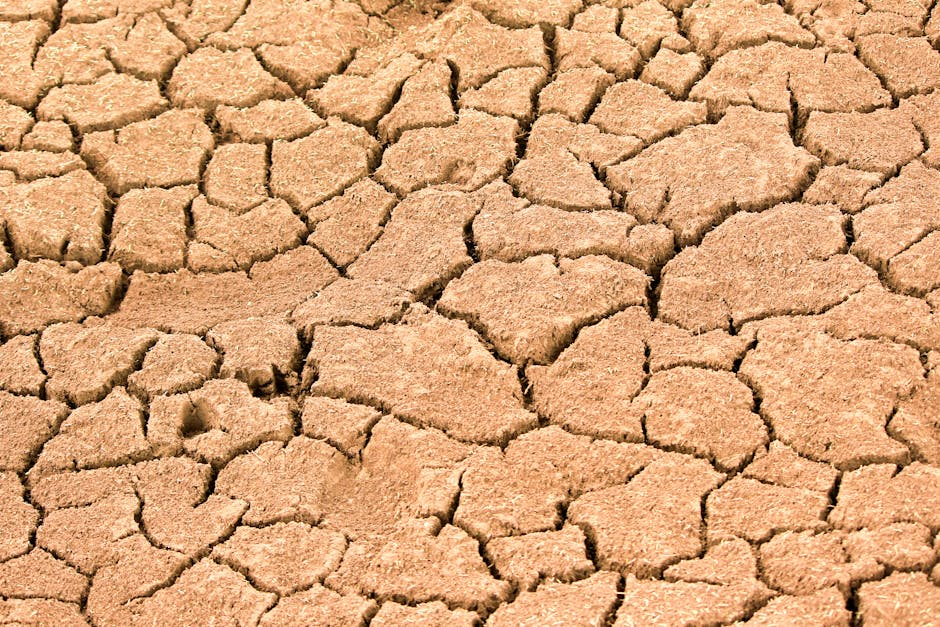细微裂纹: (107, 514, 585, 609), (9, 221, 323, 284), (666, 509, 930, 568)
网状裂隙: (165, 59, 915, 474)
